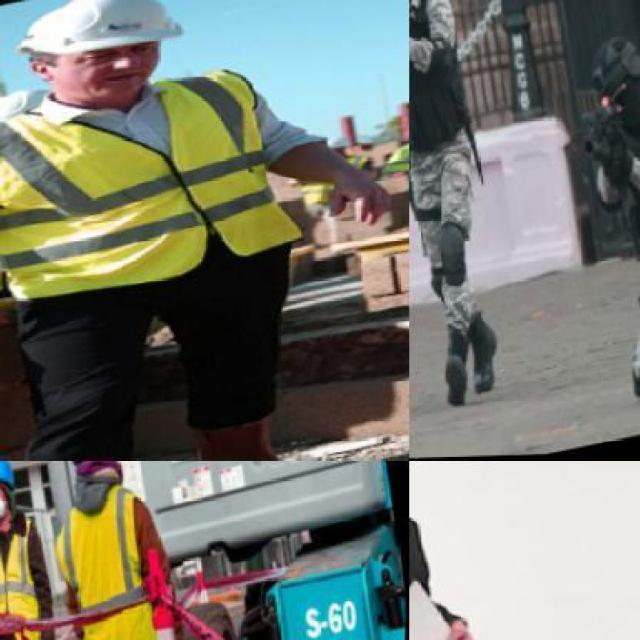Vest: (0, 56, 325, 322), (45, 482, 177, 638), (409, 0, 478, 162), (0, 508, 57, 638), (596, 80, 638, 249)
